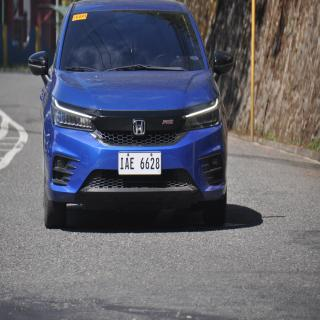license: (119, 153, 162, 176)
